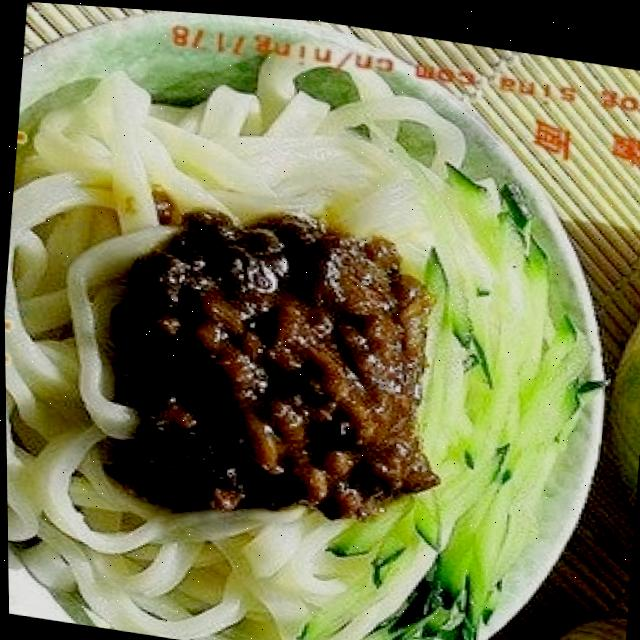面条主食: (0, 0, 621, 640)
